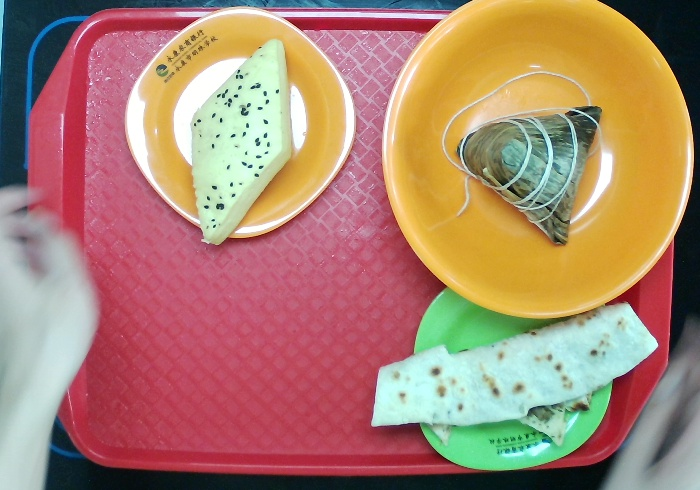YKMZ-Ju_Se_Fang_Die: (123, 7, 360, 242)
YKMZ-Ju_Se_Tang_Wan: (378, 1, 697, 320)
YKMZ-Lv_Se_Fang_Die: (411, 287, 615, 473)
